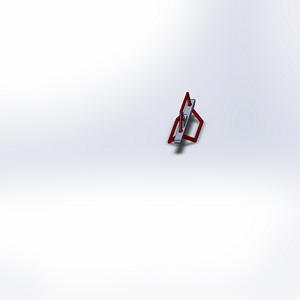submarine: (148, 84, 231, 167)
